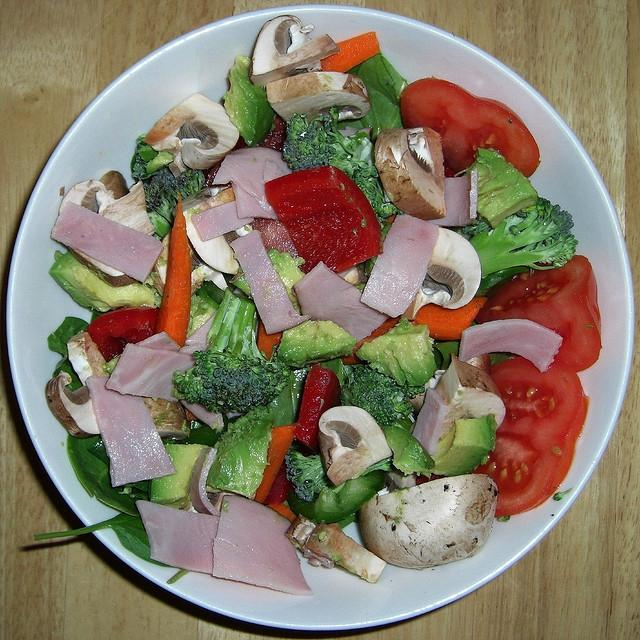bell pepper: (264, 167, 382, 276), (288, 470, 384, 524), (292, 366, 342, 451), (86, 306, 160, 362), (263, 448, 312, 506), (66, 432, 109, 498), (258, 113, 286, 153)
broccoli: (170, 286, 292, 414), (462, 197, 578, 277), (454, 149, 538, 228), (355, 318, 439, 387), (340, 365, 425, 426), (144, 166, 206, 240), (352, 166, 403, 228), (282, 113, 330, 173), (284, 449, 328, 502), (131, 154, 160, 180)
carrot: (155, 190, 192, 348), (253, 422, 297, 504), (408, 296, 488, 341), (342, 316, 401, 365), (321, 32, 381, 72), (257, 317, 283, 360), (268, 502, 296, 523)
mushroom: (359, 474, 498, 570), (59, 179, 155, 287), (409, 352, 506, 442), (142, 94, 240, 172), (402, 229, 481, 320), (46, 332, 110, 439), (374, 126, 446, 221), (250, 14, 340, 86), (317, 406, 393, 487), (266, 70, 372, 124), (182, 185, 240, 275), (305, 523, 386, 583), (142, 396, 190, 441), (338, 262, 370, 286)
tomato: (472, 358, 588, 516), (475, 255, 601, 373), (402, 77, 540, 177), (264, 166, 384, 274), (85, 306, 159, 362), (294, 366, 341, 454), (248, 218, 298, 259)
